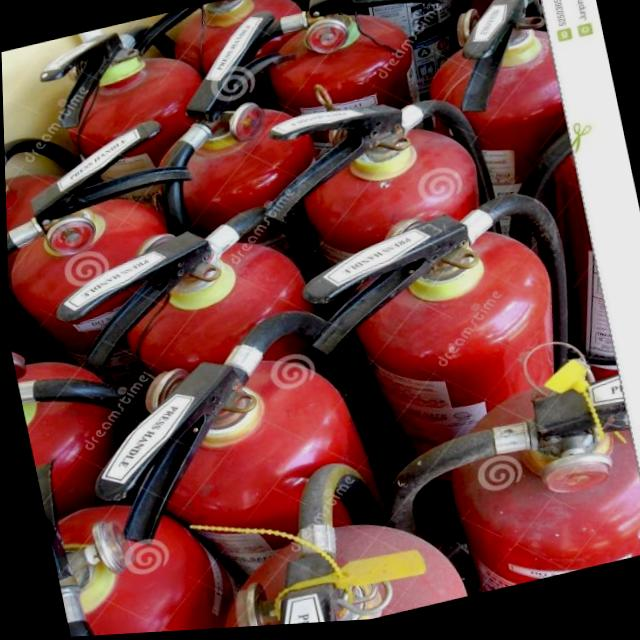FireExtinguisher: (240, 67, 577, 598), (282, 179, 633, 627), (2, 93, 300, 587), (117, 0, 400, 510), (58, 288, 433, 638), (255, 0, 531, 443), (26, 6, 289, 452), (395, 0, 631, 429), (2, 87, 200, 497), (352, 348, 640, 617), (187, 433, 483, 632), (40, 475, 228, 639)
